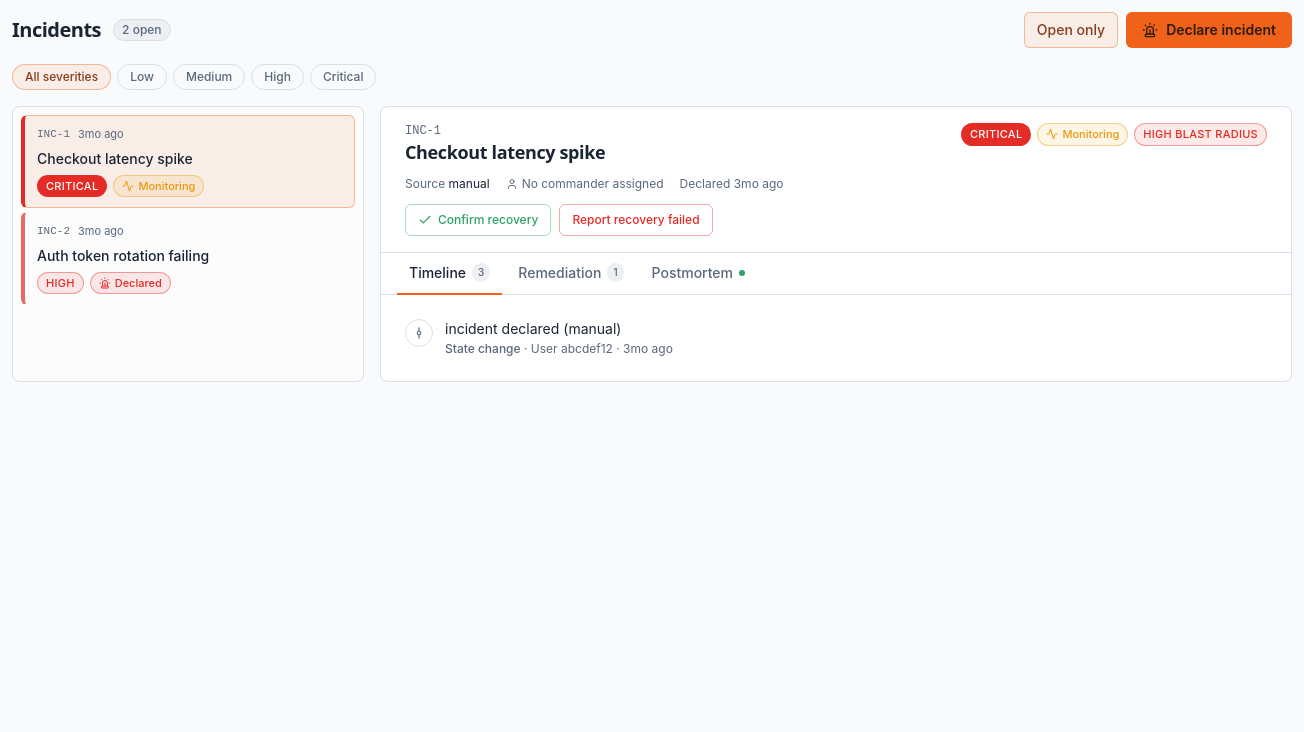
IncidentsView › shows the blocked remediation plan on the remediation tab
This screenshot has width=1304, height=732.
Check: the element with test id "incident-detail" is shown, box [381,107,1291,380]
Click the tab "Remediation 1" at [571, 274], box [506,252,636,294]
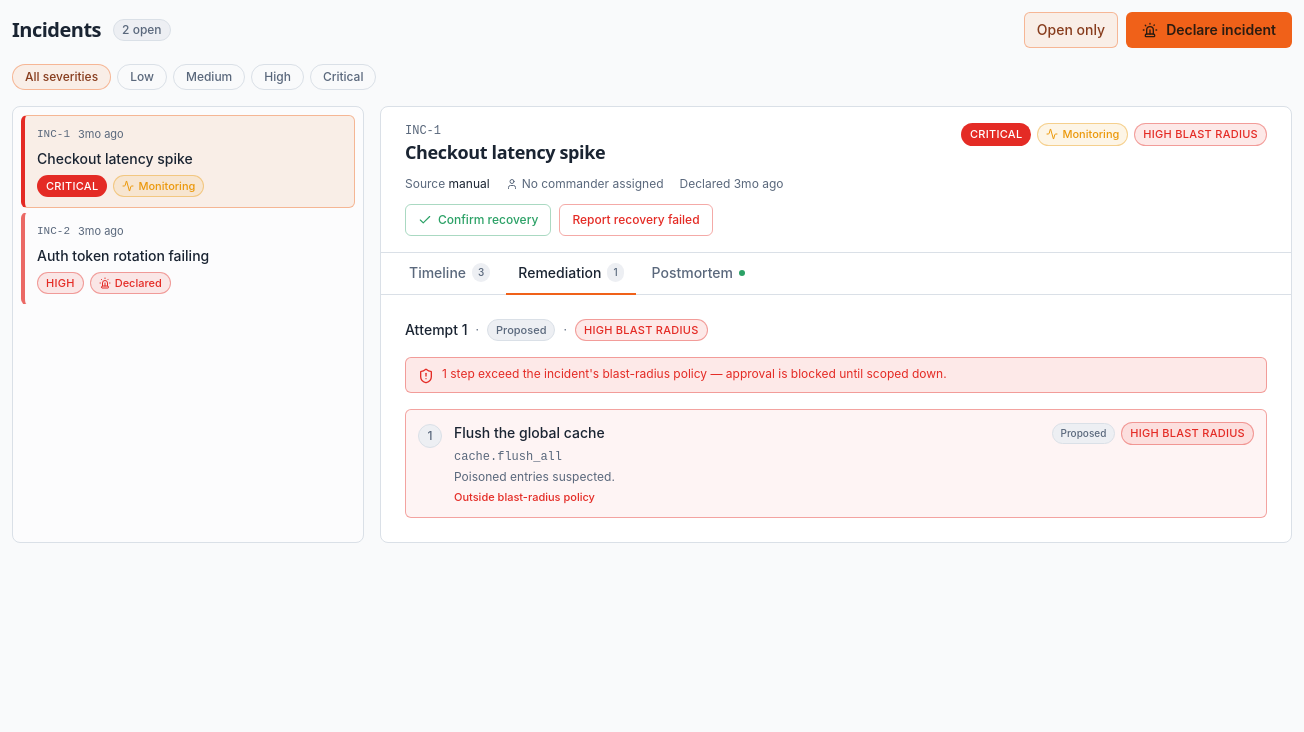
Check: the element with test id "remediation-plan" is shown, box [405,318,1267,518]
Check: the text "exceed the incident's blast-radius policy" is shown, box [442,366,947,381]
